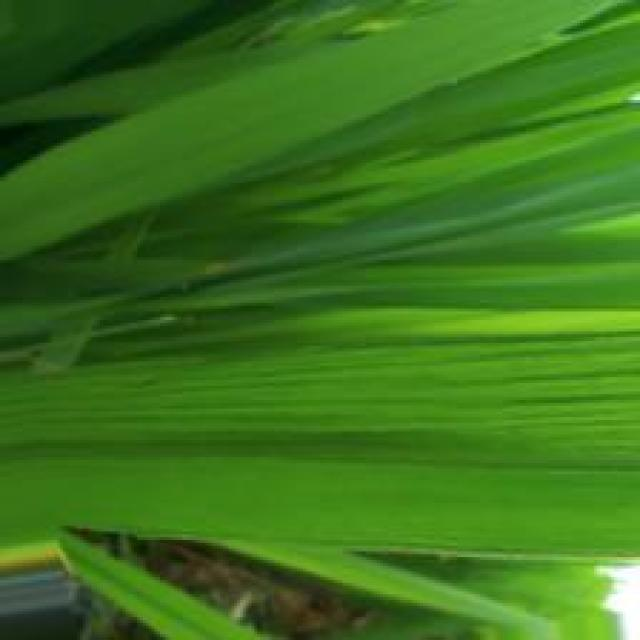HealthyLeaf: (0, 322, 640, 562)
